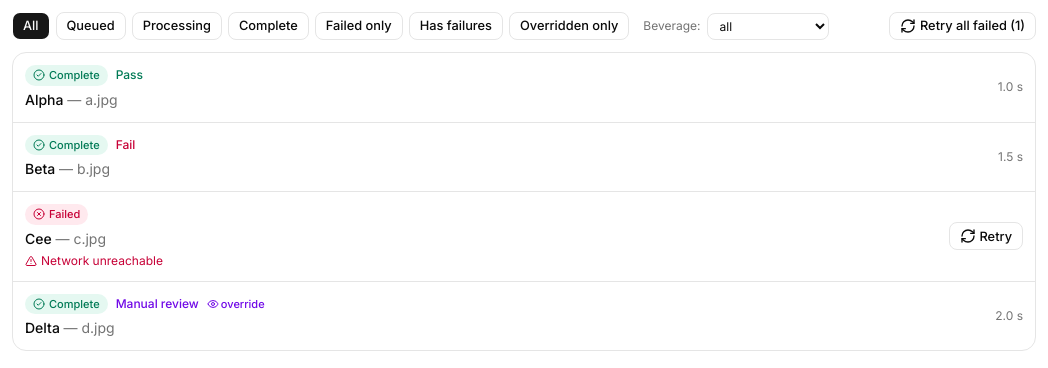
Scenario: BatchQueue › filters by status (only failed)
Click the button "Failed only": (359, 26) x1=315 y1=12 x2=403 y2=40
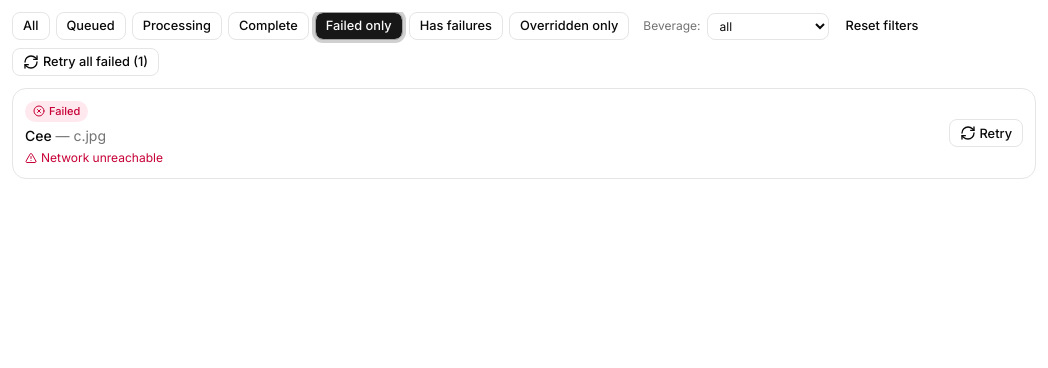
Expected: the button "Cee — c.jpg" is shown, x1=25 y1=126 x2=106 y2=146
Result: the number of list items with test id "batch-queue-row" is 1 at x1=13 y1=89 x2=1035 y2=178
